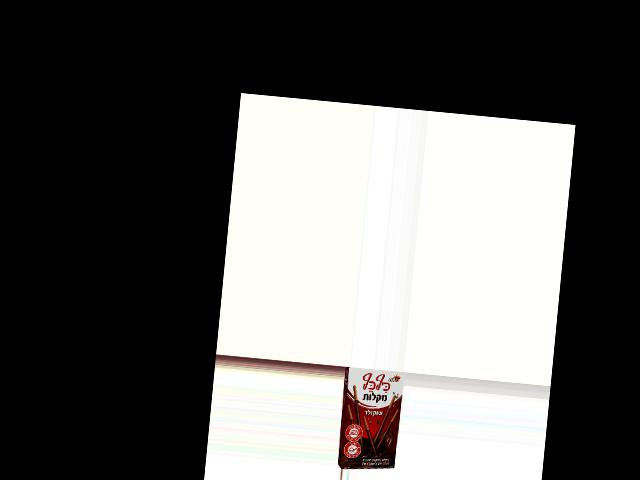chocolate: (337, 366, 405, 467)
